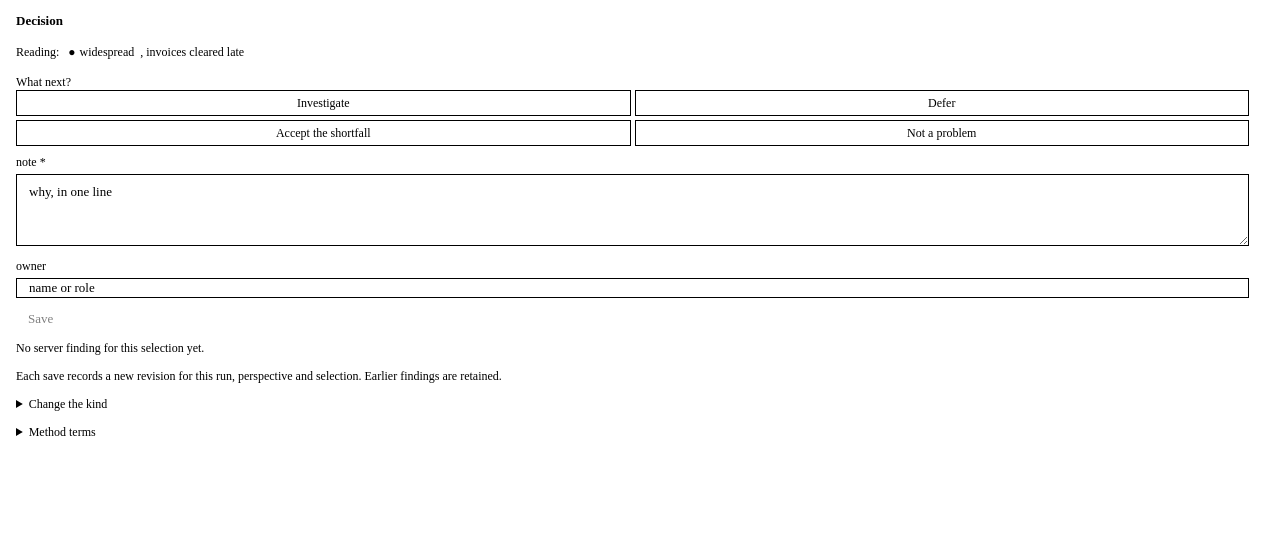
it: server-persisted decision pane › retains malformed filter input for server validation
The width and height of the screenshot is (1266, 543).
Expected: the text box labelled "note *" is enabled, [16,174,1249,246]
Click the radio button labelled "Investigate": (323, 103) [16,90,630,116]
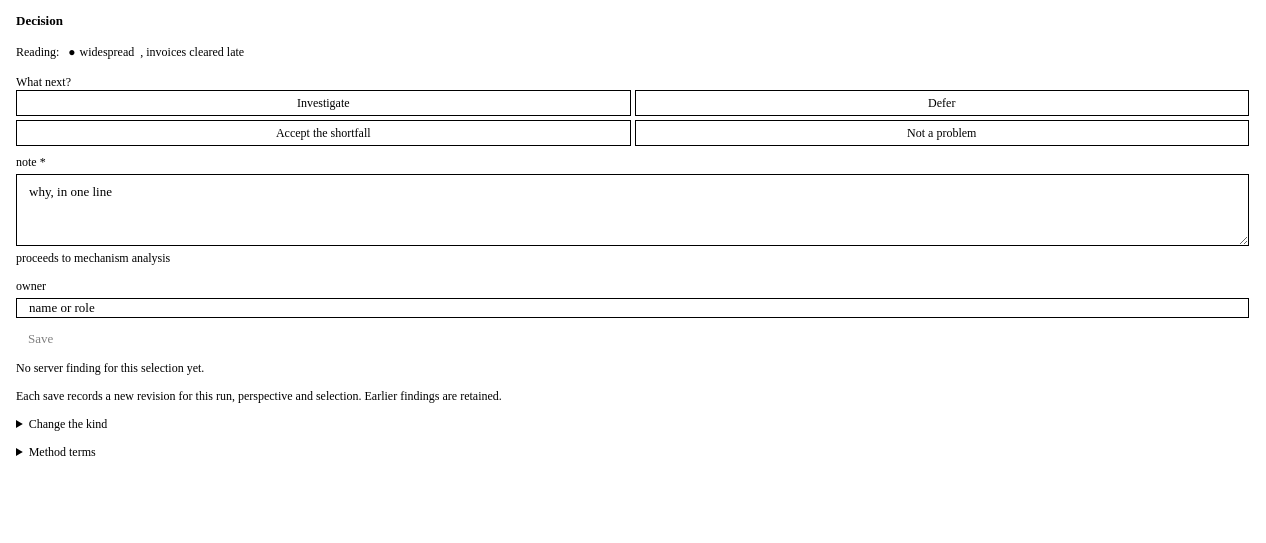
In the text box labelled "note *": (632, 210) [16,174,1249,246], type "Check selection"
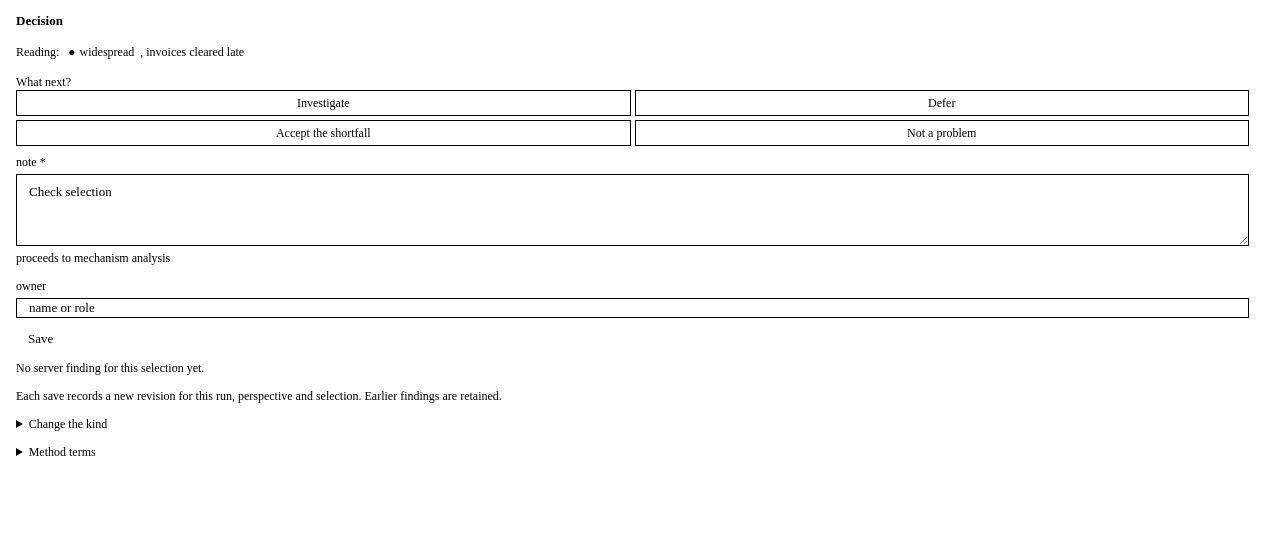
Click the button "Save": (41, 339) [16,330,65,348]
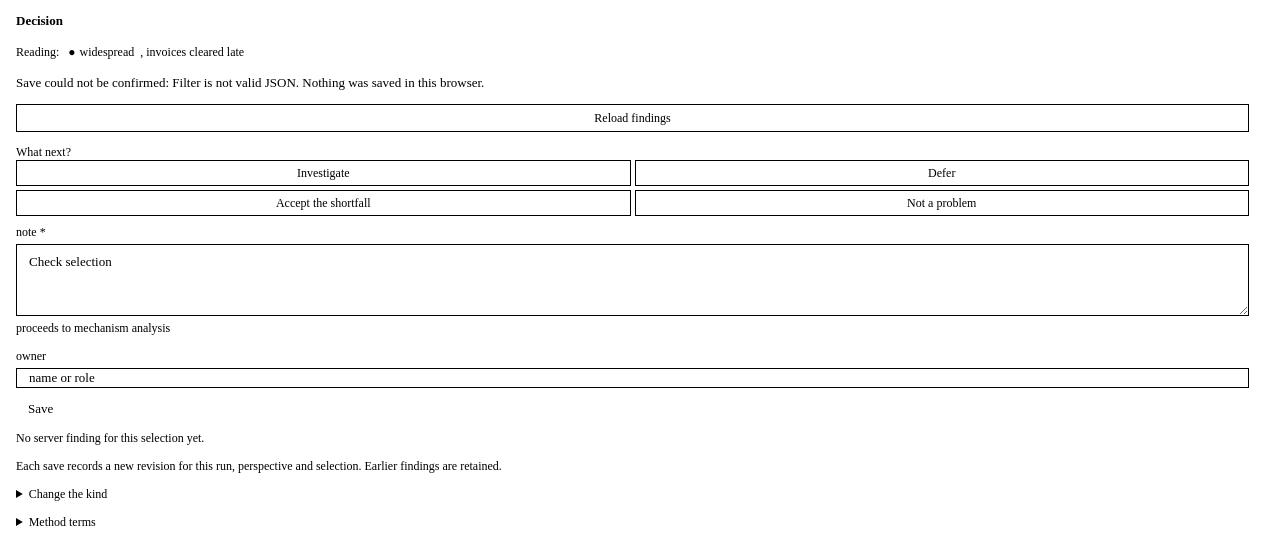
Expected: the message shows "Filter is not valid JSON", [172,75,296,90]
